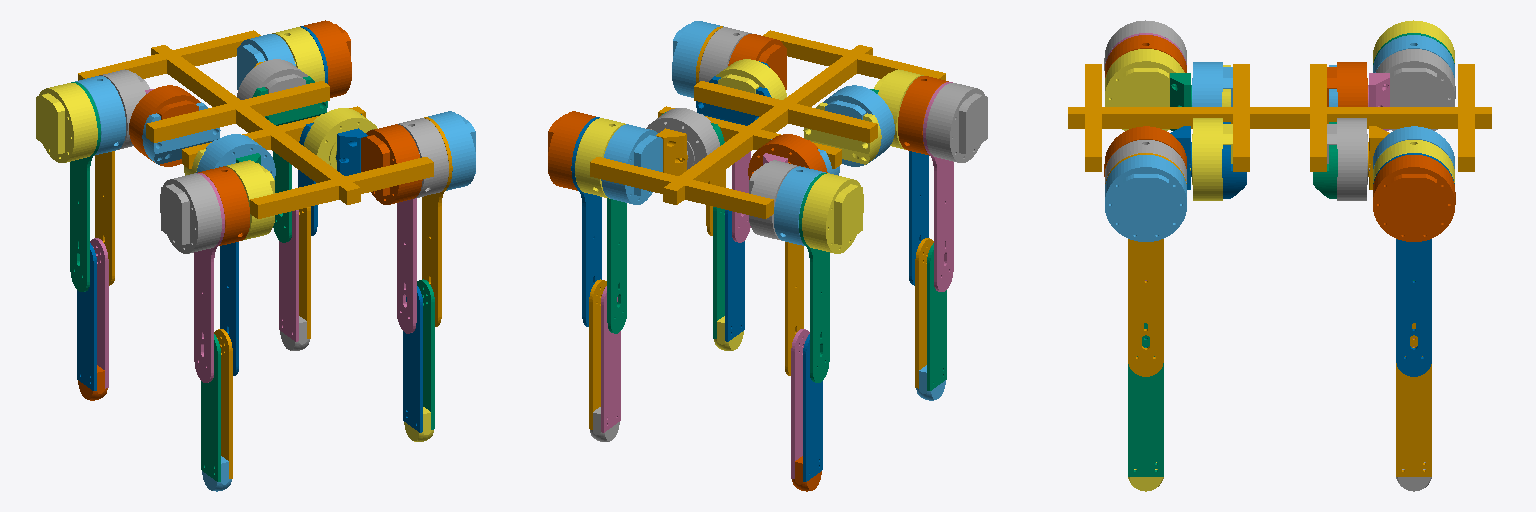
--- Facts derived from the render (not from the file) ---
The picture shows the robot from 3 angles, left to right: view 1: azimuth 30°, elevation 25°; view 2: azimuth 150°, elevation 25°; view 3: azimuth 270°, elevation 25°; orthographic projection.
Robot: assembly_old_weights — 45 links, 44 joints (12 continuous, 32 fixed); root link base_link; default pose: all joints at 0.
Visible links, largest first — view 1: base_link, leg_fl_v61motor_3_fl1, leg_bl_v21motor_3_bl1, leg_fl_v61upperleg_ext_fl1, leg_bl_v21upperleg_ext_bl1, leg_br_v21motor_2_br1, leg_br_v21upperleg_int_br1, leg_br_v21upperleg_ext_br1, leg_fl_v61lowerleg_ext_fl1, leg_bl_v21lowerleg_ext_bl1, leg_br_v21lowerleg_int_br1, leg_fr_v81lowerleg_int_fr1 (+24 smaller); view 2: base_link, leg_bl_v21motor_3_bl1, leg_fl_v61motor_3_fl1, leg_bl_v21upperleg_ext_bl1, leg_fl_v61upperleg_ext_fl1, leg_fr_v81motor_2_fr1, leg_fr_v81upperleg_int_fr1, leg_fr_v81upperleg_ext_fr1, leg_bl_v21lowerleg_ext_bl1, leg_fl_v61lowerleg_ext_fl1, leg_fr_v81lowerleg_int_fr1, leg_br_v21lowerleg_int_br1 (+24 smaller); view 3: base_link, leg_fr_v81motor_3_fr1, leg_br_v21motor_3_br1, leg_br_v21upperleg_ext_br1, leg_fr_v81upperleg_ext_fr1, leg_br_v21lowerleg_ext_br1, leg_fr_v81lowerleg_ext_fr1, leg_fl_v61motor_2_fl1, leg_bl_v21motor_2_bl1, leg_fr_v81motor_1_fr1, leg_br_v21motor_1_br1, leg_fl_v61motor_1_fl1 (+13 smaller).
Boxes of the visible links, x1,y1,x2,y2 form: base_link: (78, 30, 433, 218); leg_fl_v61motor_3_fl1: (36, 83, 97, 162); leg_bl_v21motor_3_bl1: (160, 173, 221, 253); leg_fl_v61upperleg_ext_fl1: (70, 82, 100, 291); leg_bl_v21upperleg_ext_bl1: (194, 173, 224, 382); leg_br_v21motor_2_br1: (361, 124, 422, 204); leg_br_v21upperleg_int_br1: (397, 198, 416, 333); leg_br_v21upperleg_ext_br1: (422, 117, 452, 326); leg_fl_v61lowerleg_ext_fl1: (77, 243, 96, 390); leg_bl_v21lowerleg_ext_bl1: (201, 334, 220, 481); leg_br_v21lowerleg_int_br1: (403, 286, 422, 432); leg_fr_v81lowerleg_int_fr1: (279, 210, 298, 341); base_link: (590, 30, 945, 218); leg_bl_v21motor_3_bl1: (926, 83, 987, 162); leg_fl_v61motor_3_fl1: (802, 173, 863, 253); leg_bl_v21upperleg_ext_bl1: (923, 82, 953, 291); leg_fl_v61upperleg_ext_fl1: (799, 173, 829, 382); leg_fr_v81motor_2_fr1: (601, 124, 662, 204); leg_fr_v81upperleg_int_fr1: (607, 198, 626, 333); leg_fr_v81upperleg_ext_fr1: (571, 117, 601, 326); leg_bl_v21lowerleg_ext_bl1: (927, 243, 946, 390); leg_fl_v61lowerleg_ext_fl1: (803, 334, 822, 481); leg_fr_v81lowerleg_int_fr1: (601, 286, 620, 432); leg_br_v21lowerleg_int_br1: (725, 210, 744, 341); base_link: (1068, 64, 1491, 171); leg_fr_v81motor_3_fr1: (1373, 155, 1455, 241); leg_br_v21motor_3_br1: (1105, 155, 1186, 241); leg_br_v21upperleg_ext_br1: (1105, 153, 1186, 376); leg_fr_v81upperleg_ext_fr1: (1373, 153, 1454, 376); leg_br_v21lowerleg_ext_br1: (1128, 323, 1163, 476); leg_fr_v81lowerleg_ext_fr1: (1396, 323, 1431, 476); leg_fl_v61motor_2_fl1: (1376, 49, 1455, 130); leg_bl_v21motor_2_bl1: (1105, 49, 1184, 130); leg_fr_v81motor_1_fr1: (1327, 118, 1369, 200); leg_br_v21motor_1_br1: (1190, 118, 1232, 200); leg_fl_v61motor_1_fl1: (1327, 62, 1367, 106).
Size in the robot's own frame: 0.433 by 0.5 by 0.4468 metres.
45 mesh visuals loaded from 45 distinct referenced files (45 binary STL).

robot.urdf — assembly_old_weights:
<?xml version="1.0" ?>
<robot name="assembly_old_weights">

<material name="silver">
  <color rgba="0.700 0.700 0.700 1.000"/>
</material>

<link name="base_link">
  <inertial>
    <origin rpy="0 0 0" xyz="0.0 0.25 0.01"/>
    <mass value="4.5844"/>
    <inertia ixx="0.10896218666666657" ixy="0.0" ixz="0.0" iyy="0.018592986666666644" iyz="0.0" izz="0.12724954666666655"/>
  </inertial>
  <visual>
    <origin rpy="0 0 0" xyz="0 0 0"/>
    <geometry>
      <mesh filename="meshes/base_link.stl" scale="0.001 0.001 0.001"/>
    </geometry>
    <material name="silver"/>
    <material/>
  </visual>
  <collision>
    <origin rpy="0 0 0" xyz="0 0 0"/>
    <geometry>
      <mesh filename="meshes/base_link.stl" scale="0.001 0.001 0.001"/>
    </geometry>
  </collision>
</link>

<link name="leg_fl_v61body_leg_fl1">
  <inertial>
    <origin rpy="0 0 0" xyz="1.3863910020006642e-14 0.006648607737863521 -0.014708098125756902"/>
    <mass value="0.5992409824872195"/>
    <inertia ixx="0.00017471422695690408" ixy="6.071532165918825e-17" ixz="3.491130995403324e-17" iyy="0.0006759073492009064" iyz="3.0944744138358335e-06" izz="0.0005855444521177047"/>
  </inertial>
  <visual>
    <origin rpy="0 0 0" xyz="0.079 -0.298 -0.0"/>
    <geometry>
      <mesh filename="meshes/leg_fl_v61body_leg_fl1.stl" scale="0.001 0.001 0.001"/>
    </geometry>
    <material name="silver"/>
    <material/>
  </visual>
  <collision>
    <origin rpy="0 0 0" xyz="0.079 -0.298 -0.0"/>
    <geometry>
      <mesh filename="meshes/leg_fl_v61body_leg_fl1.stl" scale="0.001 0.001 0.001"/>
    </geometry>
  </collision>
</link>

<link name="leg_fr_v81body_leg_fr1">
  <inertial>
    <origin rpy="0 0 0" xyz="1.3697376566312869e-14 0.006648607737863521 -0.014708098125756902"/>
    <mass value="0.5992409824872195"/>
    <inertia ixx="0.00017471422695690408" ixy="6.245004513516506e-17" ixz="3.480288973678469e-17" iyy="0.0006759073492009081" iyz="3.0944744138358335e-06" izz="0.0005855444521177117"/>
  </inertial>
  <visual>
    <origin rpy="0 0 0" xyz="-0.079 -0.298 -0.0"/>
    <geometry>
      <mesh filename="meshes/leg_fr_v81body_leg_fr1.stl" scale="0.001 0.001 0.001"/>
    </geometry>
    <material name="silver"/>
    <material/>
  </visual>
  <collision>
    <origin rpy="0 0 0" xyz="-0.079 -0.298 -0.0"/>
    <geometry>
      <mesh filename="meshes/leg_fr_v81body_leg_fr1.stl" scale="0.001 0.001 0.001"/>
    </geometry>
  </collision>
</link>

<link name="leg_bl_v21body_leg_bl1">
  <inertial>
    <origin rpy="0 0 0" xyz="-1.3766765505351941e-14 -0.006648607737863604 -0.01470809812575689"/>
    <mass value="0.5992409824872195"/>
    <inertia ixx="0.00017471422695688674" ixy="6.245004513516506e-17" ixz="-3.480288973678469e-17" iyy="0.0006759073492009094" iyz="-3.094474413836267e-06" izz="0.0005855444521176978"/>
  </inertial>
  <visual>
    <origin rpy="0 0 0" xyz="0.079 -0.202 -0.0"/>
    <geometry>
      <mesh filename="meshes/leg_bl_v21body_leg_bl1.stl" scale="0.001 0.001 0.001"/>
    </geometry>
    <material name="silver"/>
    <material/>
  </visual>
  <collision>
    <origin rpy="0 0 0" xyz="0.079 -0.202 -0.0"/>
    <geometry>
      <mesh filename="meshes/leg_bl_v21body_leg_bl1.stl" scale="0.001 0.001 0.001"/>
    </geometry>
  </collision>
</link>

<link name="leg_br_v21body_leg_br1">
  <inertial>
    <origin rpy="0 0 0" xyz="-1.3863910020006642e-14 -0.006648607737863632 -0.014708098125756902"/>
    <mass value="0.5992409824872195"/>
    <inertia ixx="0.00017471422695688327" ixy="6.245004513516506e-17" ixz="-3.491130995403324e-17" iyy="0.0006759073492009081" iyz="-3.0944744138360503e-06" izz="0.0005855444521176978"/>
  </inertial>
  <visual>
    <origin rpy="0 0 0" xyz="-0.079 -0.202 -0.0"/>
    <geometry>
      <mesh filename="meshes/leg_br_v21body_leg_br1.stl" scale="0.001 0.001 0.001"/>
    </geometry>
    <material name="silver"/>
    <material/>
  </visual>
  <collision>
    <origin rpy="0 0 0" xyz="-0.079 -0.202 -0.0"/>
    <geometry>
      <mesh filename="meshes/leg_br_v21body_leg_br1.stl" scale="0.001 0.001 0.001"/>
    </geometry>
  </collision>
</link>

<link name="leg_fl_v61motor_1_fl1">
  <inertial>
    <origin rpy="0 0 0" xyz="-5.995204332975845e-15 0.026228618678054205 0.027782105819294068"/>
    <mass value="2.422383061902955"/>
    <inertia ixx="0.0017508259022941397" ixy="-4.163336342344337e-17" ixz="-3.2526065174565133e-18" iyy="0.002689812911372746" iyz="3.8473519606094936e-05" izz="0.0017005772128141916"/>
  </inertial>
  <visual>
    <origin rpy="0 0 0" xyz="0.079 -0.305885 0.0345"/>
    <geometry>
      <mesh filename="meshes/leg_fl_v61motor_1_fl1.stl" scale="0.001 0.001 0.001"/>
    </geometry>
    <material name="silver"/>
    <material/>
  </visual>
  <collision>
    <origin rpy="0 0 0" xyz="0.079 -0.305885 0.0345"/>
    <geometry>
      <mesh filename="meshes/leg_fl_v61motor_1_fl1.stl" scale="0.001 0.001 0.001"/>
    </geometry>
  </collision>
</link>

<link name="leg_fl_v61scap_x_y_fl1">
  <inertial>
    <origin rpy="0 0 0" xyz="0.0021679930846135315 0.011009286173284172 -1.5785983631388945e-15"/>
    <mass value="0.32462262320031926"/>
    <inertia ixx="0.00014272581043801857" ixy="5.719762152928826e-06" ixz="1.0842021724855044e-19" iyy="0.00015208207631171823" iyz="-3.3610267347050637e-18" izz="4.0839007951563866e-05"/>
  </inertial>
  <visual>
    <origin rpy="0 0 0" xyz="0.079 -0.354385 0.0075"/>
    <geometry>
      <mesh filename="meshes/leg_fl_v61scap_x_y_fl1.stl" scale="0.001 0.001 0.001"/>
    </geometry>
    <material name="silver"/>
    <material/>
  </visual>
  <collision>
    <origin rpy="0 0 0" xyz="0.079 -0.354385 0.0075"/>
    <geometry>
      <mesh filename="meshes/leg_fl_v61scap_x_y_fl1.stl" scale="0.001 0.001 0.001"/>
    </geometry>
  </collision>
</link>

<link name="leg_fl_v61motor_2_fl1">
  <inertial>
    <origin rpy="0 0 0" xyz="-0.014728950785940165 0.04199966789210802 0.0007821058192939807"/>
    <mass value="2.422383061902955"/>
    <inertia ixx="0.002689812911372824" ixy="2.7755575615628914e-17" ixz="-3.847351960609515e-05" iyy="0.0017508259022941397" iyz="-1.734723475976807e-18" izz="0.0017005772128141916"/>
  </inertial>
  <visual>
    <origin rpy="0 0 0" xyz="0.091 -0.366385 0.0075"/>
    <geometry>
      <mesh filename="meshes/leg_fl_v61motor_2_fl1.stl" scale="0.001 0.001 0.001"/>
    </geometry>
    <material name="silver"/>
    <material/>
  </visual>
  <collision>
    <origin rpy="0 0 0" xyz="0.091 -0.366385 0.0075"/>
    <geometry>
      <mesh filename="meshes/leg_fl_v61motor_2_fl1.stl" scale="0.001 0.001 0.001"/>
    </geometry>
  </collision>
</link>

<link name="leg_fl_v61upperleg_int_fl1">
  <inertial>
    <origin rpy="0 0 0" xyz="-0.0024999999999998357 -3.321078864693128e-07 -0.10894505554394376"/>
    <mass value="0.4048904295971011"/>
    <inertia ixx="0.002192812785968598" ixy="3.469446951953614e-18" ixz="-1.734723475976807e-18" iyy="0.002134799097711842" iyz="-1.3877787807814457e-17" izz="5.970073171340795e-05"/>
  </inertial>
  <visual>
    <origin rpy="0 0 0" xyz="0.128 -0.408385 0.0075"/>
    <geometry>
      <mesh filename="meshes/leg_fl_v61upperleg_int_fl1.stl" scale="0.001 0.001 0.001"/>
    </geometry>
    <material name="silver"/>
    <material/>
  </visual>
  <collision>
    <origin rpy="0 0 0" xyz="0.128 -0.408385 0.0075"/>
    <geometry>
      <mesh filename="meshes/leg_fl_v61upperleg_int_fl1.stl" scale="0.001 0.001 0.001"/>
    </geometry>
  </collision>
</link>

<link name="leg_fl_v61link_motor_2_3_fl1">
  <inertial>
    <origin rpy="0 0 0" xyz="-0.017914510831100044 -3.321078899665153e-07 0.007534024575946553"/>
    <mass value="1.0478500101095476"/>
    <inertia ixx="0.0016939226218073977" ixy="-6.938893903907228e-18" ixz="3.594019051485261e-05" iyy="0.0008286077071884834" iyz="-3.4801195670890184e-17" izz="0.001103927734403598"/>
  </inertial>
  <visual>
    <origin rpy="0 0 0" xyz="0.128 -0.408385 0.0075"/>
    <geometry>
      <mesh filename="meshes/leg_fl_v61link_motor_2_3_fl1.stl" scale="0.001 0.001 0.001"/>
    </geometry>
    <material name="silver"/>
    <material/>
  </visual>
  <collision>
    <origin rpy="0 0 0" xyz="0.128 -0.408385 0.0075"/>
    <geometry>
      <mesh filename="meshes/leg_fl_v61link_motor_2_3_fl1.stl" scale="0.001 0.001 0.001"/>
    </geometry>
  </collision>
</link>

<link name="leg_fl_v61upperleg_ext_fl1">
  <inertial>
    <origin rpy="0 0 0" xyz="-0.0025000000000000022 -3.322518468129587e-07 -0.08837314619383613"/>
    <mass value="0.4829681334985331"/>
    <inertia ixx="0.003455990510543294" ixy="0.0" ixz="-2.6020852139652106e-18" iyy="0.0032629322665156564" iyz="-7.46731843026538e-12" izz="0.00019507061125054181"/>
  </inertial>
  <visual>
    <origin rpy="0 0 0" xyz="0.165 -0.408385 0.0075"/>
    <geometry>
      <mesh filename="meshes/leg_fl_v61upperleg_ext_fl1.stl" scale="0.001 0.001 0.001"/>
    </geometry>
    <material name="silver"/>
    <material/>
  </visual>
  <collision>
    <origin rpy="0 0 0" xyz="0.165 -0.408385 0.0075"/>
    <geometry>
      <mesh filename="meshes/leg_fl_v61upperleg_ext_fl1.stl" scale="0.001 0.001 0.001"/>
    </geometry>
  </collision>
</link>

<link name="leg_fl_v61motor_3_fl1">
  <inertial>
    <origin rpy="0 0 0" xyz="-0.02227104921405984 -3.321078793638854e-07 0.0007821058192940405"/>
    <mass value="2.422383061902955"/>
    <inertia ixx="0.002689812911372713" ixy="5.551115123125783e-17" ixz="3.8473519606093635e-05" iyy="0.0017508259022941675" iyz="1.734723475976807e-18" izz="0.0017005772128141916"/>
  </inertial>
  <visual>
    <origin rpy="0 0 0" xyz="0.168 -0.408385 0.0075"/>
    <geometry>
      <mesh filename="meshes/leg_fl_v61motor_3_fl1.stl" scale="0.001 0.001 0.001"/>
    </geometry>
    <material name="silver"/>
    <material/>
  </visual>
  <collision>
    <origin rpy="0 0 0" xyz="0.168 -0.408385 0.0075"/>
    <geometry>
      <mesh filename="meshes/leg_fl_v61motor_3_fl1.stl" scale="0.001 0.001 0.001"/>
    </geometry>
  </collision>
</link>

<link name="leg_fl_v61lowerleg_ext_fl1">
  <inertial>
    <origin rpy="0 0 0" xyz="0.00250000000000003 1.8038551013954685e-05 -0.08216087510741524"/>
    <mass value="0.31920618495540254"/>
    <inertia ixx="0.0010589635951914755" ixy="-3.469446951953614e-18" ixz="-1.734723475976807e-18" iyy="0.0010134062777222216" iyz="4.720366025903755e-07" izz="4.688734323990418e-05"/>
  </inertial>
  <visual>
    <origin rpy="0 0 0" xyz="0.16 -0.408385 0.2035"/>
    <geometry>
      <mesh filename="meshes/leg_fl_v61lowerleg_ext_fl1.stl" scale="0.001 0.001 0.001"/>
    </geometry>
    <material name="silver"/>
    <material/>
  </visual>
  <collision>
    <origin rpy="0 0 0" xyz="0.16 -0.408385 0.2035"/>
    <geometry>
      <mesh filename="meshes/leg_fl_v61lowerleg_ext_fl1.stl" scale="0.001 0.001 0.001"/>
    </geometry>
  </collision>
</link>

<link name="leg_fl_v61foot_fl1">
  <inertial>
    <origin rpy="0 0 0" xyz="0.006000000000000033 0.012499677502770146 -0.008293661771179406"/>
    <mass value="0.2060353269232924"/>
    <inertia ixx="5.7185279620258767e-05" ixy="5.204170427930421e-18" ixz="-1.734723475976807e-18" iyy="3.707453798035276e-05" iyz="-1.3877787807814457e-17" izz="3.117247264804862e-05"/>
  </inertial>
  <visual>
    <origin rpy="0 0 0" xyz="0.155 -0.395885 0.375"/>
    <geometry>
      <mesh filename="meshes/leg_fl_v61foot_fl1.stl" scale="0.001 0.001 0.001"/>
    </geometry>
    <material name="silver"/>
    <material/>
  </visual>
  <collision>
    <origin rpy="0 0 0" xyz="0.155 -0.395885 0.375"/>
    <geometry>
      <mesh filename="meshes/leg_fl_v61foot_fl1.stl" scale="0.001 0.001 0.001"/>
    </geometry>
  </collision>
</link>

<link name="leg_fl_v61lowerleg_int_fl1">
  <inertial>
    <origin rpy="0 0 0" xyz="0.00250000000000003 0.012518038551013744 0.08933912489258466"/>
    <mass value="0.31920618495540254"/>
    <inertia ixx="0.0010589635951914617" ixy="3.469446951953614e-18" ixz="1.734723475976807e-18" iyy="0.0010134062777222008" iyz="4.720366025764977e-07" izz="4.688734323991112e-05"/>
  </inertial>
  <visual>
    <origin rpy="0 0 0" xyz="0.143 -0.395885 0.375"/>
    <geometry>
      <mesh filename="meshes/leg_fl_v61lowerleg_int_fl1.stl" scale="0.001 0.001 0.001"/>
    </geometry>
    <material name="silver"/>
    <material/>
  </visual>
  <collision>
    <origin rpy="0 0 0" xyz="0.143 -0.395885 0.375"/>
    <geometry>
      <mesh filename="meshes/leg_fl_v61lowerleg_int_fl1.stl" scale="0.001 0.001 0.001"/>
    </geometry>
  </collision>
</link>

<link name="leg_fr_v81motor_1_fr1">
  <inertial>
    <origin rpy="0 0 0" xyz="-6.022959908591474e-15 0.026228618678054205 0.027782105819294068"/>
    <mass value="2.422383061902955"/>
    <inertia ixx="0.0017508259022941397" ixy="-2.7755575615628914e-17" ixz="-3.2526065174565133e-18" iyy="0.002689812911372746" iyz="3.8473519606094936e-05" izz="0.0017005772128142471"/>
  </inertial>
  <visual>
    <origin rpy="0 0 0" xyz="-0.079 -0.305885 0.0345"/>
    <geometry>
      <mesh filename="meshes/leg_fr_v81motor_1_fr1.stl" scale="0.001 0.001 0.001"/>
    </geometry>
    <material name="silver"/>
    <material/>
  </visual>
  <collision>
    <origin rpy="0 0 0" xyz="-0.079 -0.305885 0.0345"/>
    <geometry>
      <mesh filename="meshes/leg_fr_v81motor_1_fr1.stl" scale="0.001 0.001 0.001"/>
    </geometry>
  </collision>
</link>

<link name="leg_fr_v81scap_x_y_fr1">
  <inertial>
    <origin rpy="0 0 0" xyz="-0.002167993084613448 0.011009286173284227 1.5629858518551032e-15"/>
    <mass value="0.32462262320031926"/>
    <inertia ixx="0.0001427258104380394" ixy="-5.719762152927091e-06" ixz="-1.8973538018496328e-19" iyy="0.00015208207631171736" iyz="3.144186300207963e-18" izz="4.083900795155693e-05"/>
  </inertial>
  <visual>
    <origin rpy="0 0 0" xyz="-0.079 -0.354385 0.0075"/>
    <geometry>
      <mesh filename="meshes/leg_fr_v81scap_x_y_fr1.stl" scale="0.001 0.001 0.001"/>
    </geometry>
    <material name="silver"/>
    <material/>
  </visual>
  <collision>
    <origin rpy="0 0 0" xyz="-0.079 -0.354385 0.0075"/>
    <geometry>
      <mesh filename="meshes/leg_fr_v81scap_x_y_fr1.stl" scale="0.001 0.001 0.001"/>
    </geometry>
  </collision>
</link>

<link name="leg_fr_v81motor_2_fr1">
  <inertial>
    <origin rpy="0 0 0" xyz="0.014728950785939082 0.04199966789212067 0.0007821058192940501"/>
    <mass value="2.422383061902955"/>
    <inertia ixx="0.002689812911372713" ixy="8.326672684688674e-17" ixz="3.847351960609385e-05" iyy="0.0017508259022941397" iyz="3.469446951953614e-18" izz="0.0017005772128141916"/>
  </inertial>
  <visual>
    <origin rpy="0 0 0" xyz="-0.091 -0.366385 0.0075"/>
    <geometry>
      <mesh filename="meshes/leg_fr_v81motor_2_fr1.stl" scale="0.001 0.001 0.001"/>
    </geometry>
    <material name="silver"/>
    <material/>
  </visual>
  <collision>
    <origin rpy="0 0 0" xyz="-0.091 -0.366385 0.0075"/>
    <geometry>
      <mesh filename="meshes/leg_fr_v81motor_2_fr1.stl" scale="0.001 0.001 0.001"/>
    </geometry>
  </collision>
</link>

<link name="leg_fr_v81upperleg_int_fr1">
  <inertial>
    <origin rpy="0 0 0" xyz="0.0024999999999988365 -3.321078855256232e-07 -0.10894505554394371"/>
    <mass value="0.4048904295971011"/>
    <inertia ixx="0.002192812785968584" ixy="0.0" ixz="-8.673617379884035e-19" iyy="0.002134799097711847" iyz="-2.42861286636753e-17" izz="5.970073171340795e-05"/>
  </inertial>
  <visual>
    <origin rpy="0 0 0" xyz="-0.128 -0.408385 0.0075"/>
    <geometry>
      <mesh filename="meshes/leg_fr_v81upperleg_int_fr1.stl" scale="0.001 0.001 0.001"/>
    </geometry>
    <material name="silver"/>
    <material/>
  </visual>
  <collision>
    <origin rpy="0 0 0" xyz="-0.128 -0.408385 0.0075"/>
    <geometry>
      <mesh filename="meshes/leg_fr_v81upperleg_int_fr1.stl" scale="0.001 0.001 0.001"/>
    </geometry>
  </collision>
</link>

<link name="leg_fr_v81link_motor_2_3_fr1">
  <inertial>
    <origin rpy="0 0 0" xyz="0.017914510831098962 -3.3210788058513074e-07 0.007534024575946585"/>
    <mass value="1.0478500101095476"/>
    <inertia ixx="0.0016939226218073977" ixy="-6.938893903907228e-18" ixz="-3.5940190514853627e-05" iyy="0.0008286077071884834" iyz="3.31105179081706e-17" izz="0.001103927734403598"/>
  </inertial>
  <visual>
    <origin rpy="0 0 0" xyz="-0.128 -0.408385 0.0075"/>
    <geometry>
      <mesh filename="meshes/leg_fr_v81link_motor_2_3_fr1.stl" scale="0.001 0.001 0.001"/>
    </geometry>
    <material name="silver"/>
    <material/>
  </visual>
  <collision>
    <origin rpy="0 0 0" xyz="-0.128 -0.408385 0.0075"/>
    <geometry>
      <mesh filename="meshes/leg_fr_v81link_motor_2_3_fr1.stl" scale="0.001 0.001 0.001"/>
    </geometry>
  </collision>
</link>

<link name="leg_fr_v81upperleg_ext_fr1">
  <inertial>
    <origin rpy="0 0 0" xyz="0.0024999999999987532 -3.322518460358026e-07 -0.08837314619383613"/>
    <mass value="0.4829681334985331"/>
    <inertia ixx="0.003455990510543308" ixy="0.0" ixz="-8.673617379884035e-19" iyy="0.00326293226651566" iyz="-7.467321899712331e-12" izz="0.0001950706112505557"/>
  </inertial>
  <visual>
    <origin rpy="0 0 0" xyz="-0.165 -0.408385 0.0075"/>
    <geometry>
      <mesh filename="meshes/leg_fr_v81upperleg_ext_fr1.stl" scale="0.001 0.001 0.001"/>
    </geometry>
    <material name="silver"/>
    <material/>
  </visual>
  <collision>
    <origin rpy="0 0 0" xyz="-0.165 -0.408385 0.0075"/>
    <geometry>
      <mesh filename="meshes/leg_fr_v81upperleg_ext_fr1.stl" scale="0.001 0.001 0.001"/>
    </geometry>
  </collision>
</link>

<link name="leg_fr_v81motor_3_fr1">
  <inertial>
    <origin rpy="0 0 0" xyz="0.02227104921405859 -3.321078905216268e-07 0.0007821058192940076"/>
    <mass value="2.422383061902955"/>
    <inertia ixx="0.0026898129113727687" ixy="2.7755575615628914e-17" ixz="-3.847351960609537e-05" iyy="0.0017508259022941397" iyz="-3.469446951953614e-18" izz="0.001700577212814136"/>
  </inertial>
  <visual>
    <origin rpy="0 0 0" xyz="-0.168 -0.408385 0.0075"/>
    <geometry>
      <mesh filename="meshes/leg_fr_v81motor_3_fr1.stl" scale="0.001 0.001 0.001"/>
    </geometry>
    <material name="silver"/>
    <material/>
  </visual>
  <collision>
    <origin rpy="0 0 0" xyz="-0.168 -0.408385 0.0075"/>
    <geometry>
      <mesh filename="meshes/leg_fr_v81motor_3_fr1.stl" scale="0.001 0.001 0.001"/>
    </geometry>
  </collision>
</link>

<link name="leg_fr_v81lowerleg_int_fr1">
  <inertial>
    <origin rpy="0 0 0" xyz="0.0024999999999987532 -1.869315613289846e-05 -0.08216087510741729"/>
    <mass value="0.31920618495540254"/>
    <inertia ixx="0.0010589635951914755" ixy="3.469446951953614e-18" ixz="0.0" iyy="0.0010134062777222078" iyz="-4.720366025764977e-07" izz="4.688734323990418e-05"/>
  </inertial>
  <visual>
    <origin rpy="0 0 0" xyz="-0.138 -0.408385 0.2035"/>
    <geometry>
      <mesh filename="meshes/leg_fr_v81lowerleg_int_fr1.stl" scale="0.001 0.001 0.001"/>
    </geometry>
    <material name="silver"/>
    <material/>
  </visual>
  <collision>
    <origin rpy="0 0 0" xyz="-0.138 -0.408385 0.2035"/>
    <geometry>
      <mesh filename="meshes/leg_fr_v81lowerleg_int_fr1.stl" scale="0.001 0.001 0.001"/>
    </geometry>
  </collision>
</link>

<link name="leg_fr_v81foot_fr1">
  <inertial>
    <origin rpy="0 0 0" xyz="0.005999999999998895 0.01249966789211987 -0.008293661771181182"/>
    <mass value="0.2060353269232924"/>
    <inertia ixx="5.7185279620258767e-05" ixy="0.0" ixz="-1.734723475976807e-18" iyy="3.70745379803597e-05" iyz="-6.938893903907228e-18" izz="3.1172472648034744e-05"/>
  </inertial>
  <visual>
    <origin rpy="0 0 0" xyz="-0.143 -0.395885 0.375"/>
    <geometry>
      <mesh filename="meshes/leg_fr_v81foot_fr1.stl" scale="0.001 0.001 0.001"/>
    </geometry>
    <material name="silver"/>
    <material/>
  </visual>
  <collision>
    <origin rpy="0 0 0" xyz="-0.143 -0.395885 0.375"/>
    <geometry>
      <mesh filename="meshes/leg_fr_v81foot_fr1.stl" scale="0.001 0.001 0.001"/>
    </geometry>
  </collision>
</link>

<link name="leg_fr_v81lowerleg_ext_fr1">
  <inertial>
    <origin rpy="0 0 0" xyz="0.002499999999998781 0.012481306843867057 0.08933912489258294"/>
    <mass value="0.31920618495540254"/>
    <inertia ixx="0.0010589635951914755" ixy="0.0" ixz="-1.734723475976807e-18" iyy="0.0010134062777222078" iyz="-4.720366025764977e-07" izz="4.688734323990418e-05"/>
  </inertial>
  <visual>
    <origin rpy="0 0 0" xyz="-0.155 -0.395885 0.375"/>
    <geometry>
      <mesh filename="meshes/leg_fr_v81lowerleg_ext_fr1.stl" scale="0.001 0.001 0.001"/>
    </geometry>
    <material name="silver"/>
    <material/>
  </visual>
  <collision>
    <origin rpy="0 0 0" xyz="-0.155 -0.395885 0.375"/>
    <geometry>
      <mesh filename="meshes/leg_fr_v81lowerleg_ext_fr1.stl" scale="0.001 0.001 0.001"/>
    </geometry>
  </collision>
</link>

<link name="leg_bl_v21motor_1_bl1">
  <inertial>
    <origin rpy="0 0 0" xyz="6.1201044232461754e-15 -0.026228618678054344 0.027782105819294082"/>
    <mass value="2.422383061902955"/>
    <inertia ixx="0.0017508259022941397" ixy="-3.469446951953614e-17" ixz="3.469446951953614e-18" iyy="0.0026898129113727513" iyz="-3.84735196060945e-05" izz="0.0017005772128142055"/>
  </inertial>
  <visual>
    <origin rpy="0 0 0" xyz="0.079 -0.194115 0.0345"/>
    <geometry>
      <mesh filename="meshes/leg_bl_v21motor_1_bl1.stl" scale="0.001 0.001 0.001"/>
    </geometry>
    <material name="silver"/>
    <material/>
  </visual>
  <collision>
    <origin rpy="0 0 0" xyz="0.079 -0.194115 0.0345"/>
    <geometry>
      <mesh filename="meshes/leg_bl_v21motor_1_bl1.stl" scale="0.001 0.001 0.001"/>
    </geometry>
  </collision>
</link>

<link name="leg_bl_v21scap_x_y_bl1">
  <inertial>
    <origin rpy="0 0 0" xyz="0.002167993084613268 -0.011009286173284422 1.5716594692349872e-15"/>
    <mass value="0.32462262320031926"/>
    <inertia ixx="0.00014272581043802985" ixy="-5.719762152927958e-06" ixz="2.168404344971009e-19" iyy="0.00015208207631171714" iyz="-3.3068166260807885e-18" izz="4.0839007951554325e-05"/>
  </inertial>
  <visual>
    <origin rpy="0 0 0" xyz="0.079 -0.145615 0.0075"/>
    <geometry>
      <mesh filename="meshes/leg_bl_v21scap_x_y_bl1.stl" scale="0.001 0.001 0.001"/>
    </geometry>
    <material name="silver"/>
    <material/>
  </visual>
  <collision>
    <origin rpy="0 0 0" xyz="0.079 -0.145615 0.0075"/>
    <geometry>
      <mesh filename="meshes/leg_bl_v21scap_x_y_bl1.stl" scale="0.001 0.001 0.001"/>
    </geometry>
  </collision>
</link>

<link name="leg_bl_v21motor_2_bl1">
  <inertial>
    <origin rpy="0 0 0" xyz="-0.01472895078593918 -0.04199966789212073 0.0007821058192940588"/>
    <mass value="2.422383061902955"/>
    <inertia ixx="0.0026898129113727513" ixy="5.551115123125783e-17" ixz="-3.8473519606094285e-05" iyy="0.0017508259022941466" iyz="-4.119968255444917e-18" izz="0.0017005772128142263"/>
  </inertial>
  <visual>
    <origin rpy="0 0 0" xyz="0.091 -0.133615 0.0075"/>
    <geometry>
      <mesh filename="meshes/leg_bl_v21motor_2_bl1.stl" scale="0.001 0.001 0.001"/>
    </geometry>
    <material name="silver"/>
    <material/>
  </visual>
  <collision>
    <origin rpy="0 0 0" xyz="0.091 -0.133615 0.0075"/>
    <geometry>
      <mesh filename="meshes/leg_bl_v21motor_2_bl1.stl" scale="0.001 0.001 0.001"/>
    </geometry>
  </collision>
</link>

<link name="leg_bl_v21upperleg_int_bl1">
  <inertial>
    <origin rpy="0 0 0" xyz="-0.002499999999998892 3.321078855256232e-07 -0.10894505554394371"/>
    <mass value="0.4048904295971011"/>
    <inertia ixx="0.002192812785968593" ixy="8.673617379884035e-19" ixz="1.734723475976807e-18" iyy="0.0021347990977118522" iyz="1.734723475976807e-17" izz="5.970073171341142e-05"/>
  </inertial>
  <visual>
    <origin rpy="0 0 0" xyz="0.128 -0.091615 0.0075"/>
    <geometry>
      <mesh filename="meshes/leg_bl_v21upperleg_int_bl1.stl" scale="0.001 0.001 0.001"/>
    </geometry>
    <material name="silver"/>
    <material/>
  </visual>
  <collision>
    <origin rpy="0 0 0" xyz="0.128 -0.091615 0.0075"/>
    <geometry>
      <mesh filename="meshes/leg_bl_v21upperleg_int_bl1.stl" scale="0.001 0.001 0.001"/>
    </geometry>
  </collision>
</link>

<link name="leg_bl_v21link_motor_2_3_bl1">
  <inertial>
    <origin rpy="0 0 0" xyz="-0.017914510831099045 3.321078804324751e-07 0.007534024575946594"/>
    <mass value="1.0478500101095476"/>
    <inertia ixx="0.0016939226218073665" ixy="-1.0408340855860843e-17" ixz="3.5940190514853627e-05" iyy="0.0008286077071884973" iyz="-3.3115600105854126e-17" izz="0.001103927734403591"/>
  </inertial>
  <visual>
    <origin rpy="0 0 0" xyz="0.128 -0.091615 0.0075"/>
    <geometry>
      <mesh filename="meshes/leg_bl_v21link_motor_2_3_bl1.stl" scale="0.001 0.001 0.001"/>
    </geometry>
    <material name="silver"/>
    <material/>
  </visual>
  <collision>
    <origin rpy="0 0 0" xyz="0.128 -0.091615 0.0075"/>
    <geometry>
      <mesh filename="meshes/leg_bl_v21link_motor_2_3_bl1.stl" scale="0.001 0.001 0.001"/>
    </geometry>
  </collision>
</link>

<link name="leg_bl_v21upperleg_ext_bl1">
  <inertial>
    <origin rpy="0 0 0" xyz="-0.002499999999998781 3.322518460496804e-07 -0.08837314619383613"/>
    <mass value="0.4829681334985331"/>
    <inertia ixx="0.003455990510543308" ixy="-8.673617379884035e-19" ixz="1.734723475976807e-18" iyy="0.0032629322665156633" iyz="7.467321032350593e-12" izz="0.00019507061125054875"/>
  </inertial>
  <visual>
    <origin rpy="0 0 0" xyz="0.165 -0.091615 0.0075"/>
    <geometry>
      <mesh filename="meshes/leg_bl_v21upperleg_ext_bl1.stl" scale="0.001 0.001 0.001"/>
    </geometry>
    <material name="silver"/>
    <material/>
  </visual>
  <collision>
    <origin rpy="0 0 0" xyz="0.165 -0.091615 0.0075"/>
    <geometry>
      <mesh filename="meshes/leg_bl_v21upperleg_ext_bl1.stl" scale="0.001 0.001 0.001"/>
    </geometry>
  </collision>
</link>

<link name="leg_bl_v21motor_3_bl1">
  <inertial>
    <origin rpy="0 0 0" xyz="-0.022271049214058897 3.321078904383601e-07 0.0007821058192940249"/>
    <mass value="2.422383061902955"/>
    <inertia ixx="0.002689812911372748" ixy="4.85722573273506e-17" ixz="3.847351960609537e-05" iyy="0.001750825902294112" iyz="3.2526065174565133e-18" izz="0.0017005772128141916"/>
  </inertial>
  <visual>
    <origin rpy="0 0 0" xyz="0.168 -0.091615 0.0075"/>
    <geometry>
      <mesh filename="meshes/leg_bl_v21motor_3_bl1.stl" scale="0.001 0.001 0.001"/>
    </geometry>
    <material name="silver"/>
    <material/>
  </visual>
  <collision>
    <origin rpy="0 0 0" xyz="0.168 -0.091615 0.0075"/>
    <geometry>
      <mesh filename="meshes/leg_bl_v21motor_3_bl1.stl" scale="0.001 0.001 0.001"/>
    </geometry>
  </collision>
</link>

<link name="leg_bl_v21lowerleg_int_bl1">
  <inertial>
    <origin rpy="0 0 0" xyz="-0.0024999999999988365 1.8693156132856825e-05 -0.08216087510741724"/>
    <mass value="0.31920618495540254"/>
    <inertia ixx="0.0010589635951914651" ixy="0.0" ixz="-1.734723475976807e-18" iyy="0.0010134062777222008" iyz="4.720366025834366e-07" izz="4.688734323990244e-05"/>
  </inertial>
  <visual>
    <origin rpy="0 0 0" xyz="0.138 -0.091615 0.2035"/>
    <geometry>
      <mesh filename="meshes/leg_bl_v21lowerleg_int_bl1.stl" scale="0.001 0.001 0.001"/>
    </geometry>
    <material name="silver"/>
    <material/>
  </visual>
  <collision>
    <origin rpy="0 0 0" xyz="0.138 -0.091615 0.2035"/>
    <geometry>
      <mesh filename="meshes/leg_bl_v21lowerleg_int_bl1.stl" scale="0.001 0.001 0.001"/>
    </geometry>
  </collision>
</link>

<link name="leg_bl_v21foot_bl1">
  <inertial>
    <origin rpy="0 0 0" xyz="-0.005999999999998923 -0.012499667892119884 -0.008293661771181127"/>
    <mass value="0.2060353269232924"/>
    <inertia ixx="5.718527962024489e-05" ixy="0.0" ixz="1.734723475976807e-18" iyy="3.70745379803597e-05" iyz="1.1275702593849246e-17" izz="3.117247264804255e-05"/>
  </inertial>
  <visual>
    <origin rpy="0 0 0" xyz="0.143 -0.104115 0.375"/>
    <geometry>
      <mesh filename="meshes/leg_bl_v21foot_bl1.stl" scale="0.001 0.001 0.001"/>
    </geometry>
    <material name="silver"/>
    <material/>
  </visual>
  <collision>
    <origin rpy="0 0 0" xyz="0.143 -0.104115 0.375"/>
    <geometry>
      <mesh filename="meshes/leg_bl_v21foot_bl1.stl" scale="0.001 0.001 0.001"/>
    </geometry>
  </collision>
</link>

<link name="leg_bl_v21lowerleg_ext_bl1">
  <inertial>
    <origin rpy="0 0 0" xyz="-0.0024999999999989475 -0.012481306843867099 0.08933912489258294"/>
    <mass value="0.31920618495540254"/>
    <inertia ixx="0.0010589635951914651" ixy="-1.734723475976807e-18" ixz="0.0" iyy="0.0010134062777222147" iyz="4.720366025834366e-07" izz="4.688734323990244e-05"/>
  </inertial>
  <visual>
    <origin rpy="0 0 0" xyz="0.155 -0.104115 0.375"/>
    <geometry>
      <mesh filename="meshes/leg_bl_v21lowerleg_ext_bl1.stl" scale="0.001 0.001 0.001"/>
    </geometry>
    <material name="silver"/>
    <material/>
  </visual>
  <collision>
    <origin rpy="0 0 0" xyz="0.155 -0.104115 0.375"/>
    <geometry>
      <mesh filename="meshes/leg_bl_v21lowerleg_ext_bl1.stl" scale="0.001 0.001 0.001"/>
    </geometry>
  </collision>
</link>

<link name="leg_br_v21motor_1_br1">
  <inertial>
    <origin rpy="0 0 0" xyz="5.856426454897701e-15 -0.026228618678054372 0.027782105819294068"/>
    <mass value="2.422383061902955"/>
    <inertia ixx="0.0017508259022941536" ixy="-3.469446951953614e-17" ixz="2.8189256484623115e-18" iyy="0.002689812911372755" iyz="-3.847351960609537e-05" izz="0.0017005772128142194"/>
  </inertial>
  <visual>
    <origin rpy="0 0 0" xyz="-0.079 -0.194115 0.0345"/>
    <geometry>
      <mesh filename="meshes/leg_br_v21motor_1_br1.stl" scale="0.001 0.001 0.001"/>
    </geometry>
    <material name="silver"/>
    <material/>
  </visual>
  <collision>
    <origin rpy="0 0 0" xyz="-0.079 -0.194115 0.0345"/>
    <geometry>
      <mesh filename="meshes/leg_br_v21motor_1_br1.stl" scale="0.001 0.001 0.001"/>
    </geometry>
  </collision>
</link>

<link name="leg_br_v21scap_x_y_br1">
  <inertial>
    <origin rpy="0 0 0" xyz="-0.0021679930846135315 -0.011009286173284505 -1.5785983631388945e-15"/>
    <mass value="0.32462262320031926"/>
    <inertia ixx="0.00014272581043802898" ixy="5.719762152927958e-06" ixz="-1.3552527156068805e-19" iyy="0.00015208207631171823" iyz="3.415236843329339e-18" izz="4.0839007951554325e-05"/>
  </inertial>
  <visual>
    <origin rpy="0 0 0" xyz="-0.079 -0.145615 0.0075"/>
    <geometry>
      <mesh filename="meshes/leg_br_v21scap_x_y_br1.stl" scale="0.001 0.001 0.001"/>
    </geometry>
    <material name="silver"/>
    <material/>
  </visual>
  <collision>
    <origin rpy="0 0 0" xyz="-0.079 -0.145615 0.0075"/>
    <geometry>
      <mesh filename="meshes/leg_br_v21scap_x_y_br1.stl" scale="0.001 0.001 0.001"/>
    </geometry>
  </collision>
</link>

<link name="leg_br_v21motor_2_br1">
  <inertial>
    <origin rpy="0 0 0" xyz="0.014728950785940179 -0.04199966789210828 0.0007821058192939764"/>
    <mass value="2.422383061902955"/>
    <inertia ixx="0.002689812911372748" ixy="3.122502256758253e-17" ixz="3.8473519606095586e-05" iyy="0.0017508259022941466" iyz="2.3852447794681098e-18" izz="0.0017005772128142332"/>
  </inertial>
  <visual>
    <origin rpy="0 0 0" xyz="-0.091 -0.133615 0.0075"/>
    <geometry>
      <mesh filename="meshes/leg_br_v21motor_2_br1.stl" scale="0.001 0.001 0.001"/>
    </geometry>
    <material name="silver"/>
    <material/>
  </visual>
  <collision>
    <origin rpy="0 0 0" xyz="-0.091 -0.133615 0.0075"/>
    <geometry>
      <mesh filename="meshes/leg_br_v21motor_2_br1.stl" scale="0.001 0.001 0.001"/>
    </geometry>
  </collision>
</link>

<link name="leg_br_v21upperleg_int_br1">
  <inertial>
    <origin rpy="0 0 0" xyz="0.0025000000000001132 3.321078863305349e-07 -0.10894505554394376"/>
    <mass value="0.4048904295971011"/>
    <inertia ixx="0.0021928127859685963" ixy="0.0" ixz="2.6020852139652106e-18" iyy="0.0021347990977118522" iyz="1.734723475976807e-17" izz="5.970073171340795e-05"/>
  </inertial>
  <visual>
    <origin rpy="0 0 0" xyz="-0.128 -0.091615 0.0075"/>
    <geometry>
      <mesh filename="meshes/leg_br_v21upperleg_int_br1.stl" scale="0.001 0.001 0.001"/>
    </geometry>
    <material name="silver"/>
    <material/>
  </visual>
  <collision>
    <origin rpy="0 0 0" xyz="-0.128 -0.091615 0.0075"/>
    <geometry>
      <mesh filename="meshes/leg_br_v21upperleg_int_br1.stl" scale="0.001 0.001 0.001"/>
    </geometry>
  </collision>
</link>

<link name="leg_br_v21link_motor_2_3_br1">
  <inertial>
    <origin rpy="0 0 0" xyz="0.01791451083109999 3.321078897583485e-07 0.007534024575946553"/>
    <mass value="1.0478500101095476"/>
    <inertia ixx="0.0016939226218073665" ixy="-1.3877787807814457e-17" ixz="-3.594019051485266e-05" iyy="0.0008286077071884869" iyz="3.480500731915283e-17" izz="0.0011039277344035876"/>
  </inertial>
  <visual>
    <origin rpy="0 0 0" xyz="-0.128 -0.091615 0.0075"/>
    <geometry>
      <mesh filename="meshes/leg_br_v21link_motor_2_3_br1.stl" scale="0.001 0.001 0.001"/>
    </geometry>
    <material name="silver"/>
    <material/>
  </visual>
  <collision>
    <origin rpy="0 0 0" xyz="-0.128 -0.091615 0.0075"/>
    <geometry>
      <mesh filename="meshes/leg_br_v21link_motor_2_3_br1.stl" scale="0.001 0.001 0.001"/>
    </geometry>
  </collision>
</link>

<link name="leg_br_v21upperleg_ext_br1">
  <inertial>
    <origin rpy="0 0 0" xyz="0.002500000000000141 3.322518467435698e-07 -0.08837314619383613"/>
    <mass value="0.4829681334985331"/>
    <inertia ixx="0.00345599051054331" ixy="-8.673617379884035e-19" ixz="8.673617379884035e-19" iyy="0.0032629322665156703" iyz="7.467319297627117e-12" izz="0.00019507061125055222"/>
  </inertial>
  <visual>
    <origin rpy="0 0 0" xyz="-0.165 -0.091615 0.0075"/>
    <geometry>
      <mesh filename="meshes/leg_br_v21upperleg_ext_br1.stl" scale="0.001 0.001 0.001"/>
    </geometry>
    <material name="silver"/>
    <material/>
  </visual>
  <collision>
    <origin rpy="0 0 0" xyz="-0.165 -0.091615 0.0075"/>
    <geometry>
      <mesh filename="meshes/leg_br_v21upperleg_ext_br1.stl" scale="0.001 0.001 0.001"/>
    </geometry>
  </collision>
</link>

<link name="leg_br_v21motor_3_br1">
  <inertial>
    <origin rpy="0 0 0" xyz="0.02227104921405959 3.321078791418408e-07 0.0007821058192940362"/>
    <mass value="2.422383061902955"/>
    <inertia ixx="0.0026898129113727513" ixy="2.7755575615628914e-17" ixz="-3.8473519606093635e-05" iyy="0.0017508259022941397" iyz="-2.6020852139652106e-18" izz="0.0017005772128142194"/>
  </inertial>
  <visual>
    <origin rpy="0 0 0" xyz="-0.168 -0.091615 0.0075"/>
    <geometry>
      <mesh filename="meshes/leg_br_v21motor_3_br1.stl" scale="0.001 0.001 0.001"/>
    </geometry>
    <material name="silver"/>
    <material/>
  </visual>
  <collision>
    <origin rpy="0 0 0" xyz="-0.168 -0.091615 0.0075"/>
    <geometry>
      <mesh filename="meshes/leg_br_v21motor_3_br1.stl" scale="0.001 0.001 0.001"/>
    </geometry>
  </collision>
</link>

<link name="leg_br_v21lowerleg_ext_br1">
  <inertial>
    <origin rpy="0 0 0" xyz="-0.00250000000000003 -1.8038551014093462e-05 -0.08216087510741535"/>
    <mass value="0.31920618495540254"/>
    <inertia ixx="0.0010589635951914651" ixy="-8.673617379884035e-19" ixz="1.734723475976807e-18" iyy="0.0010134062777222078" iyz="-4.720366025817019e-07" izz="4.688734323990418e-05"/>
  </inertial>
  <visual>
    <origin rpy="0 0 0" xyz="-0.16 -0.091615 0.2035"/>
    <geometry>
      <mesh filename="meshes/leg_br_v21lowerleg_ext_br1.stl" scale="0.001 0.001 0.001"/>
    </geometry>
    <material name="silver"/>
    <material/>
  </visual>
  <collision>
    <origin rpy="0 0 0" xyz="-0.16 -0.091615 0.2035"/>
    <geometry>
      <mesh filename="meshes/leg_br_v21lowerleg_ext_br1.stl" scale="0.001 0.001 0.001"/>
    </geometry>
  </collision>
</link>

<link name="leg_br_v21foot_br1">
  <inertial>
    <origin rpy="0 0 0" xyz="-0.006000000000000144 -0.012499677502770437 -0.00829366177117935"/>
    <mass value="0.2060353269232924"/>
    <inertia ixx="5.718527962025183e-05" ixy="-4.336808689942018e-19" ixz="-1.734723475976807e-18" iyy="3.70745379803597e-05" iyz="1.214306433183765e-17" izz="3.117247264804168e-05"/>
  </inertial>
  <visual>
    <origin rpy="0 0 0" xyz="-0.155 -0.104115 0.375"/>
    <geometry>
      <mesh filename="meshes/leg_br_v21foot_br1.stl" scale="0.001 0.001 0.001"/>
    </geometry>
    <material name="silver"/>
    <material/>
  </visual>
  <collision>
    <origin rpy="0 0 0" xyz="-0.155 -0.104115 0.375"/>
    <geometry>
      <mesh filename="meshes/leg_br_v21foot_br1.stl" scale="0.001 0.001 0.001"/>
    </geometry>
  </collision>
</link>

<link name="leg_br_v21lowerleg_int_br1">
  <inertial>
    <origin rpy="0 0 0" xyz="-0.0025000000000001132 -0.01251803855101391 0.08933912489258466"/>
    <mass value="0.31920618495540254"/>
    <inertia ixx="0.0010589635951914617" ixy="8.673617379884035e-19" ixz="1.734723475976807e-18" iyy="0.0010134062777222078" iyz="-4.720366025817019e-07" izz="4.688734323990071e-05"/>
  </inertial>
  <visual>
    <origin rpy="0 0 0" xyz="-0.143 -0.104115 0.375"/>
    <geometry>
      <mesh filename="meshes/leg_br_v21lowerleg_int_br1.stl" scale="0.001 0.001 0.001"/>
    </geometry>
    <material name="silver"/>
    <material/>
  </visual>
  <collision>
    <origin rpy="0 0 0" xyz="-0.143 -0.104115 0.375"/>
    <geometry>
      <mesh filename="meshes/leg_br_v21lowerleg_int_br1.stl" scale="0.001 0.001 0.001"/>
    </geometry>
  </collision>
</link>

<joint name="Rigid1" type="fixed">
  <origin rpy="0 0 0" xyz="-0.079 0.298 0.0"/>
  <parent link="base_link"/>
  <child link="leg_fl_v61body_leg_fl1"/>
</joint>

<joint name="Rigid2" type="fixed">
  <origin rpy="0 0 0" xyz="0.079 0.298 0.0"/>
  <parent link="base_link"/>
  <child link="leg_fr_v81body_leg_fr1"/>
</joint>

<joint name="Rigid3" type="fixed">
  <origin rpy="0 0 0" xyz="-0.079 0.202 0.0"/>
  <parent link="base_link"/>
  <child link="leg_bl_v21body_leg_bl1"/>
</joint>

<joint name="Rigid4" type="fixed">
  <origin rpy="0 0 0" xyz="0.079 0.202 0.0"/>
  <parent link="base_link"/>
  <child link="leg_br_v21body_leg_br1"/>
</joint>

<joint name="leg_fl_v61_Rigid1_fl" type="fixed">
  <origin rpy="0 0 0" xyz="0.0 0.007885 -0.0345"/>
  <parent link="leg_fl_v61body_leg_fl1"/>
  <child link="leg_fl_v61motor_1_fl1"/>
</joint>

<joint name="leg_fl_v61_sh_x_fl" type="continuous">
  <origin rpy="0 0 0" xyz="0.0 0.0485 0.027"/>
  <parent link="leg_fl_v61motor_1_fl1"/>
  <child link="leg_fl_v61scap_x_y_fl1"/>
  <axis xyz="-0.0 1.0 0.0"/>
</joint>
<transmission name="leg_fl_v61_sh_x_fl_tran">
  <type>transmission_interface/SimpleTransmission</type>
  <joint name="leg_fl_v61_sh_x_fl">
    <hardwareInterface>PositionJointInterface</hardwareInterface>
  </joint>
  <actuator name="leg_fl_v61_sh_x_fl_actr">
    <hardwareInterface>PositionJointInterface</hardwareInterface>
    <mechanicalReduction>1</mechanicalReduction>
  </actuator>
</transmission>

<joint name="leg_fl_v61_Rigid3_fl" type="fixed">
  <origin rpy="0 0 0" xyz="-0.012 0.012 0.0"/>
  <parent link="leg_fl_v61scap_x_y_fl1"/>
  <child link="leg_fl_v61motor_2_fl1"/>
</joint>

<joint name="leg_fl_v61_sh_y_fl" type="continuous">
  <origin rpy="0 0 0" xyz="-0.037 0.042 0.0"/>
  <parent link="leg_fl_v61motor_2_fl1"/>
  <child link="leg_fl_v61upperleg_int_fl1"/>
  <axis xyz="-1.0 0.0 0.0"/>
</joint>
<transmission name="leg_fl_v61_sh_y_fl_tran">
  <type>transmission_interface/SimpleTransmission</type>
  <joint name="leg_fl_v61_sh_y_fl">
    <hardwareInterface>PositionJointInterface</hardwareInterface>
  </joint>
  <actuator name="leg_fl_v61_sh_y_fl_actr">
    <hardwareInterface>PositionJointInterface</hardwareInterface>
    <mechanicalReduction>1</mechanicalReduction>
  </actuator>
</transmission>

<joint name="leg_fl_v61_Rigid5_fl" type="fixed">
  <origin rpy="0 0 0" xyz="0.0 0.0 0.0"/>
  <parent link="leg_fl_v61upperleg_int_fl1"/>
  <child link="leg_fl_v61link_motor_2_3_fl1"/>
</joint>

<joint name="leg_fl_v61_Rigid6_fl" type="fixed">
  <origin rpy="0 0 0" xyz="-0.037 0.0 0.0"/>
  <parent link="leg_fl_v61link_motor_2_3_fl1"/>
  <child link="leg_fl_v61upperleg_ext_fl1"/>
</joint>

<joint name="leg_fl_v61_Rigid7_fl" type="fixed">
  <origin rpy="0 0 0" xyz="-0.003 0.0 0.0"/>
  <parent link="leg_fl_v61upperleg_ext_fl1"/>
  <child link="leg_fl_v61motor_3_fl1"/>
</joint>

<joint name="leg_fl_v61_el_fl" type="continuous">
  <origin rpy="0 0 0" xyz="0.005 0.0 -0.196"/>
  <parent link="leg_fl_v61upperleg_ext_fl1"/>
  <child link="leg_fl_v61lowerleg_ext_fl1"/>
  <axis xyz="1.0 0.0 -0.0"/>
</joint>
<transmission name="leg_fl_v61_el_fl_tran">
  <type>transmission_interface/SimpleTransmission</type>
  <joint name="leg_fl_v61_el_fl">
    <hardwareInterface>PositionJointInterface</hardwareInterface>
  </joint>
  <actuator name="leg_fl_v61_el_fl_actr">
    <hardwareInterface>PositionJointInterface</hardwareInterface>
    <mechanicalReduction>1</mechanicalReduction>
  </actuator>
</transmission>

<joint name="leg_fl_v61_Rigid9_fl" type="fixed">
  <origin rpy="0 0 0" xyz="0.005 -0.0125 -0.1715"/>
  <parent link="leg_fl_v61lowerleg_ext_fl1"/>
  <child link="leg_fl_v61foot_fl1"/>
</joint>

<joint name="leg_fl_v61_Rigid10_fl" type="fixed">
  <origin rpy="0 0 0" xyz="0.012 0.0 0.0"/>
  <parent link="leg_fl_v61foot_fl1"/>
  <child link="leg_fl_v61lowerleg_int_fl1"/>
</joint>

<joint name="leg_fr_v81_Rigid1_fr" type="fixed">
  <origin rpy="0 0 0" xyz="0.0 0.007885 -0.0345"/>
  <parent link="leg_fr_v81body_leg_fr1"/>
  <child link="leg_fr_v81motor_1_fr1"/>
</joint>

<joint name="leg_fr_v81_scap_x_fr" type="continuous">
  <origin rpy="0 0 0" xyz="0.0 0.0485 0.027"/>
  <parent link="leg_fr_v81motor_1_fr1"/>
  <child link="leg_fr_v81scap_x_y_fr1"/>
  <axis xyz="-0.0 1.0 0.0"/>
</joint>
<transmission name="leg_fr_v81_scap_x_fr_tran">
  <type>transmission_interface/SimpleTransmission</type>
  <joint name="leg_fr_v81_scap_x_fr">
    <hardwareInterface>PositionJointInterface</hardwareInterface>
  </joint>
  <actuator name="leg_fr_v81_scap_x_fr_actr">
    <hardwareInterface>PositionJointInterface</hardwareInterface>
    <mechanicalReduction>1</mechanicalReduction>
  </actuator>
</transmission>

<joint name="leg_fr_v81_Rigid3_fr" type="fixed">
  <origin rpy="0 0 0" xyz="0.012 0.012 0.0"/>
  <parent link="leg_fr_v81scap_x_y_fr1"/>
  <child link="leg_fr_v81motor_2_fr1"/>
</joint>

<joint name="leg_fr_v81_scap_y_fr" type="continuous">
  <origin rpy="0 0 0" xyz="0.037 0.042 0.0"/>
  <parent link="leg_fr_v81motor_2_fr1"/>
  <child link="leg_fr_v81upperleg_int_fr1"/>
  <axis xyz="1.0 0.0 -0.0"/>
</joint>
<transmission name="leg_fr_v81_scap_y_fr_tran">
  <type>transmission_interface/SimpleTransmission</type>
  <joint name="leg_fr_v81_scap_y_fr">
    <hardwareInterface>PositionJointInterface</hardwareInterface>
  </joint>
  <actuator name="leg_fr_v81_scap_y_fr_actr">
    <hardwareInterface>PositionJointInterface</hardwareInterface>
    <mechanicalReduction>1</mechanicalReduction>
  </actuator>
</transmission>

<joint name="leg_fr_v81_Rigid5_fr" type="fixed">
  <origin rpy="0 0 0" xyz="0.0 0.0 0.0"/>
  <parent link="leg_fr_v81upperleg_int_fr1"/>
  <child link="leg_fr_v81link_motor_2_3_fr1"/>
</joint>

<joint name="leg_fr_v81_Rigid6_fr" type="fixed">
  <origin rpy="0 0 0" xyz="0.037 0.0 0.0"/>
  <parent link="leg_fr_v81link_motor_2_3_fr1"/>
  <child link="leg_fr_v81upperleg_ext_fr1"/>
</joint>

<joint name="leg_fr_v81_Rigid7_fr" type="fixed">
  <origin rpy="0 0 0" xyz="0.003 0.0 0.0"/>
  <parent link="leg_fr_v81upperleg_ext_fr1"/>
  <child link="leg_fr_v81motor_3_fr1"/>
</joint>

<joint name="leg_fr_v81_el_fr" type="continuous">
  <origin rpy="0 0 0" xyz="0.01 0.0 -0.196"/>
  <parent link="leg_fr_v81upperleg_int_fr1"/>
  <child link="leg_fr_v81lowerleg_int_fr1"/>
  <axis xyz="1.0 0.0 -0.0"/>
</joint>
<transmission name="leg_fr_v81_el_fr_tran">
  <type>transmission_interface/SimpleTransmission</type>
  <joint name="leg_fr_v81_el_fr">
    <hardwareInterface>PositionJointInterface</hardwareInterface>
  </joint>
  <actuator name="leg_fr_v81_el_fr_actr">
    <hardwareInterface>PositionJointInterface</hardwareInterface>
    <mechanicalReduction>1</mechanicalReduction>
  </actuator>
</transmission>

<joint name="leg_fr_v81_Rigid9_fr" type="fixed">
  <origin rpy="0 0 0" xyz="0.005 -0.0125 -0.1715"/>
  <parent link="leg_fr_v81lowerleg_int_fr1"/>
  <child link="leg_fr_v81foot_fr1"/>
</joint>

<joint name="leg_fr_v81_Rigid10_fr" type="fixed">
  <origin rpy="0 0 0" xyz="0.012 0.0 0.0"/>
  <parent link="leg_fr_v81foot_fr1"/>
  <child link="leg_fr_v81lowerleg_ext_fr1"/>
</joint>

<joint name="leg_bl_v21_Rigid1_bl" type="fixed">
  <origin rpy="0 0 0" xyz="0.0 -0.007885 -0.0345"/>
  <parent link="leg_bl_v21body_leg_bl1"/>
  <child link="leg_bl_v21motor_1_bl1"/>
</joint>

<joint name="leg_bl_v21_scap_x_bl" type="continuous">
  <origin rpy="0 0 0" xyz="0.0 -0.0485 0.027"/>
  <parent link="leg_bl_v21motor_1_bl1"/>
  <child link="leg_bl_v21scap_x_y_bl1"/>
  <axis xyz="-0.0 -1.0 0.0"/>
</joint>
<transmission name="leg_bl_v21_scap_x_bl_tran">
  <type>transmission_interface/SimpleTransmission</type>
  <joint name="leg_bl_v21_scap_x_bl">
    <hardwareInterface>PositionJointInterface</hardwareInterface>
  </joint>
  <actuator name="leg_bl_v21_scap_x_bl_actr">
    <hardwareInterface>PositionJointInterface</hardwareInterface>
    <mechanicalReduction>1</mechanicalReduction>
  </actuator>
</transmission>

<joint name="leg_bl_v21_Rigid3_bl" type="fixed">
  <origin rpy="0 0 0" xyz="-0.012 -0.012 0.0"/>
  <parent link="leg_bl_v21scap_x_y_bl1"/>
  <child link="leg_bl_v21motor_2_bl1"/>
</joint>

<joint name="leg_bl_v21_scap_y_bl" type="continuous">
  <origin rpy="0 0 0" xyz="-0.037 -0.042 0.0"/>
  <parent link="leg_bl_v21motor_2_bl1"/>
  <child link="leg_bl_v21upperleg_int_bl1"/>
  <axis xyz="-1.0 -0.0 -0.0"/>
</joint>
<transmission name="leg_bl_v21_scap_y_bl_tran">
  <type>transmission_interface/SimpleTransmission</type>
  <joint name="leg_bl_v21_scap_y_bl">
    <hardwareInterface>PositionJointInterface</hardwareInterface>
  </joint>
  <actuator name="leg_bl_v21_scap_y_bl_actr">
    <hardwareInterface>PositionJointInterface</hardwareInterface>
    <mechanicalReduction>1</mechanicalReduction>
  </actuator>
</transmission>

<joint name="leg_bl_v21_Rigid5_bl" type="fixed">
  <origin rpy="0 0 0" xyz="0.0 0.0 0.0"/>
  <parent link="leg_bl_v21upperleg_int_bl1"/>
  <child link="leg_bl_v21link_motor_2_3_bl1"/>
</joint>

<joint name="leg_bl_v21_Rigid6_bl" type="fixed">
  <origin rpy="0 0 0" xyz="-0.037 0.0 0.0"/>
  <parent link="leg_bl_v21link_motor_2_3_bl1"/>
  <child link="leg_bl_v21upperleg_ext_bl1"/>
</joint>

<joint name="leg_bl_v21_Rigid7_bl" type="fixed">
  <origin rpy="0 0 0" xyz="-0.003 0.0 0.0"/>
  <parent link="leg_bl_v21upperleg_ext_bl1"/>
  <child link="leg_bl_v21motor_3_bl1"/>
</joint>

<joint name="leg_bl_v21_el_bl" type="continuous">
  <origin rpy="0 0 0" xyz="-0.01 0.0 -0.196"/>
  <parent link="leg_bl_v21upperleg_int_bl1"/>
  <child link="leg_bl_v21lowerleg_int_bl1"/>
  <axis xyz="-1.0 -0.0 -0.0"/>
</joint>
<transmission name="leg_bl_v21_el_bl_tran">
  <type>transmission_interface/SimpleTransmission</type>
  <joint name="leg_bl_v21_el_bl">
    <hardwareInterface>PositionJointInterface</hardwareInterface>
  </joint>
  <actuator name="leg_bl_v21_el_bl_actr">
    <hardwareInterface>PositionJointInterface</hardwareInterface>
    <mechanicalReduction>1</mechanicalReduction>
  </actuator>
</transmission>

<joint name="leg_bl_v21_Rigid9_bl" type="fixed">
  <origin rpy="0 0 0" xyz="-0.005 0.0125 -0.1715"/>
  <parent link="leg_bl_v21lowerleg_int_bl1"/>
  <child link="leg_bl_v21foot_bl1"/>
</joint>

<joint name="leg_bl_v21_Rigid10_bl" type="fixed">
  <origin rpy="0 0 0" xyz="-0.012 0.0 0.0"/>
  <parent link="leg_bl_v21foot_bl1"/>
  <child link="leg_bl_v21lowerleg_ext_bl1"/>
</joint>

<joint name="leg_br_v21_Rigid1_br" type="fixed">
  <origin rpy="0 0 0" xyz="0.0 -0.007885 -0.0345"/>
  <parent link="leg_br_v21body_leg_br1"/>
  <child link="leg_br_v21motor_1_br1"/>
</joint>

<joint name="leg_br_v21_sh_x_br" type="continuous">
  <origin rpy="0 0 0" xyz="0.0 -0.0485 0.027"/>
  <parent link="leg_br_v21motor_1_br1"/>
  <child link="leg_br_v21scap_x_y_br1"/>
  <axis xyz="-0.0 -1.0 0.0"/>
</joint>
<transmission name="leg_br_v21_sh_x_br_tran">
  <type>transmission_interface/SimpleTransmission</type>
  <joint name="leg_br_v21_sh_x_br">
    <hardwareInterface>PositionJointInterface</hardwareInterface>
  </joint>
  <actuator name="leg_br_v21_sh_x_br_actr">
    <hardwareInterface>PositionJointInterface</hardwareInterface>
    <mechanicalReduction>1</mechanicalReduction>
  </actuator>
</transmission>

<joint name="leg_br_v21_Rigid3_br" type="fixed">
  <origin rpy="0 0 0" xyz="0.012 -0.012 0.0"/>
  <parent link="leg_br_v21scap_x_y_br1"/>
  <child link="leg_br_v21motor_2_br1"/>
</joint>

<joint name="leg_br_v21_sh_y_br" type="continuous">
  <origin rpy="0 0 0" xyz="0.037 -0.042 0.0"/>
  <parent link="leg_br_v21motor_2_br1"/>
  <child link="leg_br_v21upperleg_int_br1"/>
  <axis xyz="1.0 -0.0 0.0"/>
</joint>
<transmission name="leg_br_v21_sh_y_br_tran">
  <type>transmission_interface/SimpleTransmission</type>
  <joint name="leg_br_v21_sh_y_br">
    <hardwareInterface>PositionJointInterface</hardwareInterface>
  </joint>
  <actuator name="leg_br_v21_sh_y_br_actr">
    <hardwareInterface>PositionJointInterface</hardwareInterface>
    <mechanicalReduction>1</mechanicalReduction>
  </actuator>
</transmission>

<joint name="leg_br_v21_Rigid5_br" type="fixed">
  <origin rpy="0 0 0" xyz="0.0 0.0 0.0"/>
  <parent link="leg_br_v21upperleg_int_br1"/>
  <child link="leg_br_v21link_motor_2_3_br1"/>
</joint>

<joint name="leg_br_v21_Rigid6_br" type="fixed">
  <origin rpy="0 0 0" xyz="0.037 0.0 0.0"/>
  <parent link="leg_br_v21link_motor_2_3_br1"/>
  <child link="leg_br_v21upperleg_ext_br1"/>
</joint>

<joint name="leg_br_v21_Rigid7_br" type="fixed">
  <origin rpy="0 0 0" xyz="0.003 0.0 0.0"/>
  <parent link="leg_br_v21upperleg_ext_br1"/>
  <child link="leg_br_v21motor_3_br1"/>
</joint>

<joint name="leg_br_v21_el_br" type="continuous">
  <origin rpy="0 0 0" xyz="-0.005 0.0 -0.196"/>
  <parent link="leg_br_v21upperleg_ext_br1"/>
  <child link="leg_br_v21lowerleg_ext_br1"/>
  <axis xyz="-1.0 0.0 -0.0"/>
</joint>
<transmission name="leg_br_v21_el_br_tran">
  <type>transmission_interface/SimpleTransmission</type>
  <joint name="leg_br_v21_el_br">
    <hardwareInterface>PositionJointInterface</hardwareInterface>
  </joint>
  <actuator name="leg_br_v21_el_br_actr">
    <hardwareInterface>PositionJointInterface</hardwareInterface>
    <mechanicalReduction>1</mechanicalReduction>
  </actuator>
</transmission>

<joint name="leg_br_v21_Rigid9_br" type="fixed">
  <origin rpy="0 0 0" xyz="-0.005 0.0125 -0.1715"/>
  <parent link="leg_br_v21lowerleg_ext_br1"/>
  <child link="leg_br_v21foot_br1"/>
</joint>

<joint name="leg_br_v21_Rigid10_br" type="fixed">
  <origin rpy="0 0 0" xyz="-0.012 0.0 0.0"/>
  <parent link="leg_br_v21foot_br1"/>
  <child link="leg_br_v21lowerleg_int_br1"/>
</joint>

</robot>
